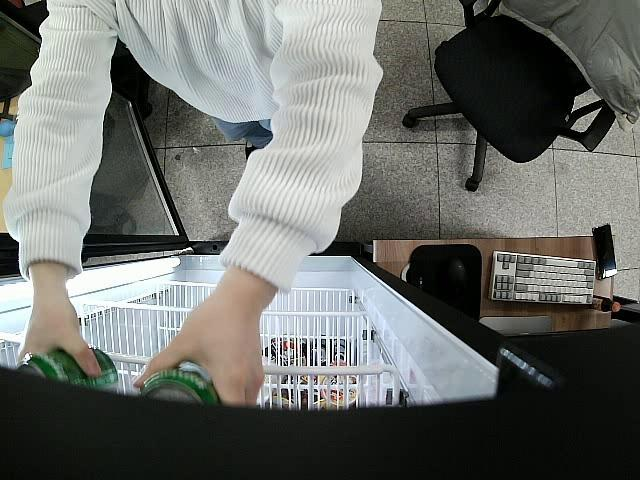12_chilsungCider: (20, 348, 120, 393), (136, 372, 220, 407)
